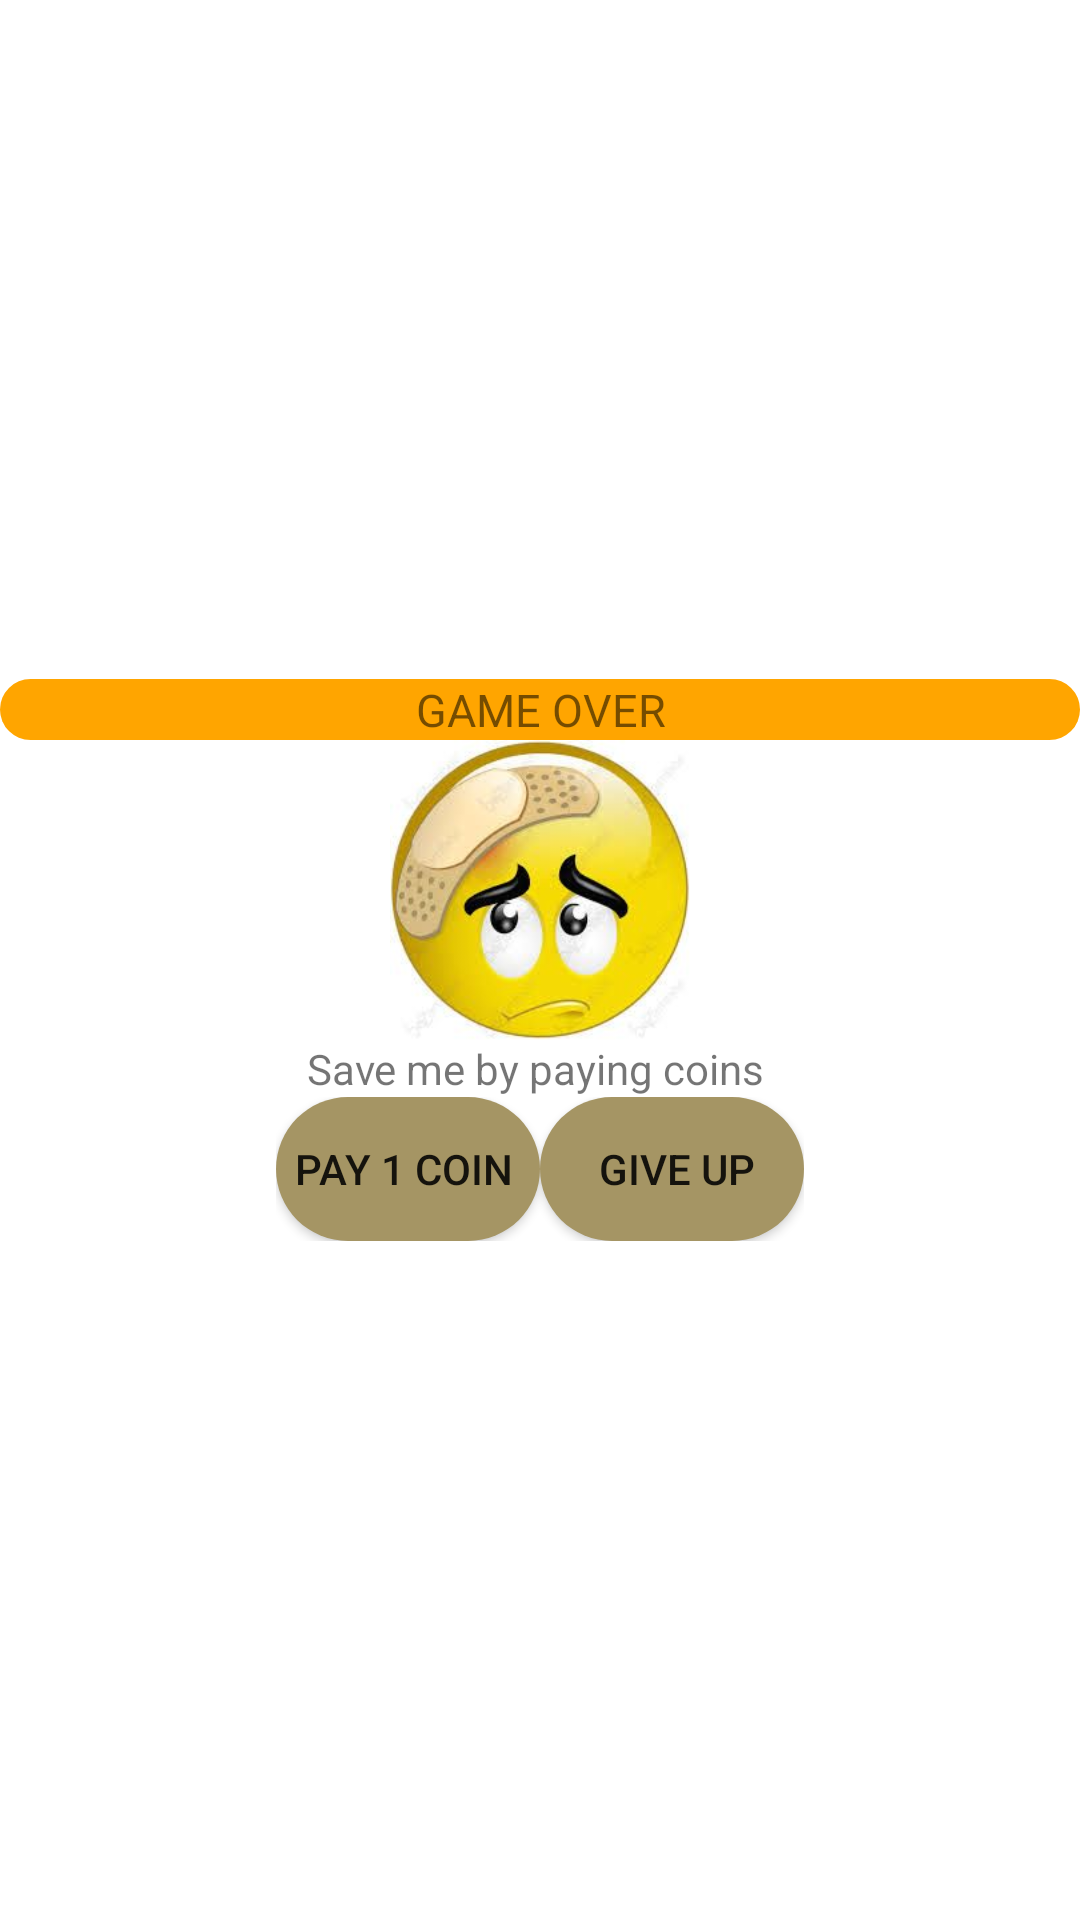

Icon click points for this 1080 x 1920 phone screenshot, format (x=x, y=y):
sad hurt emoji: (x=539, y=890)
